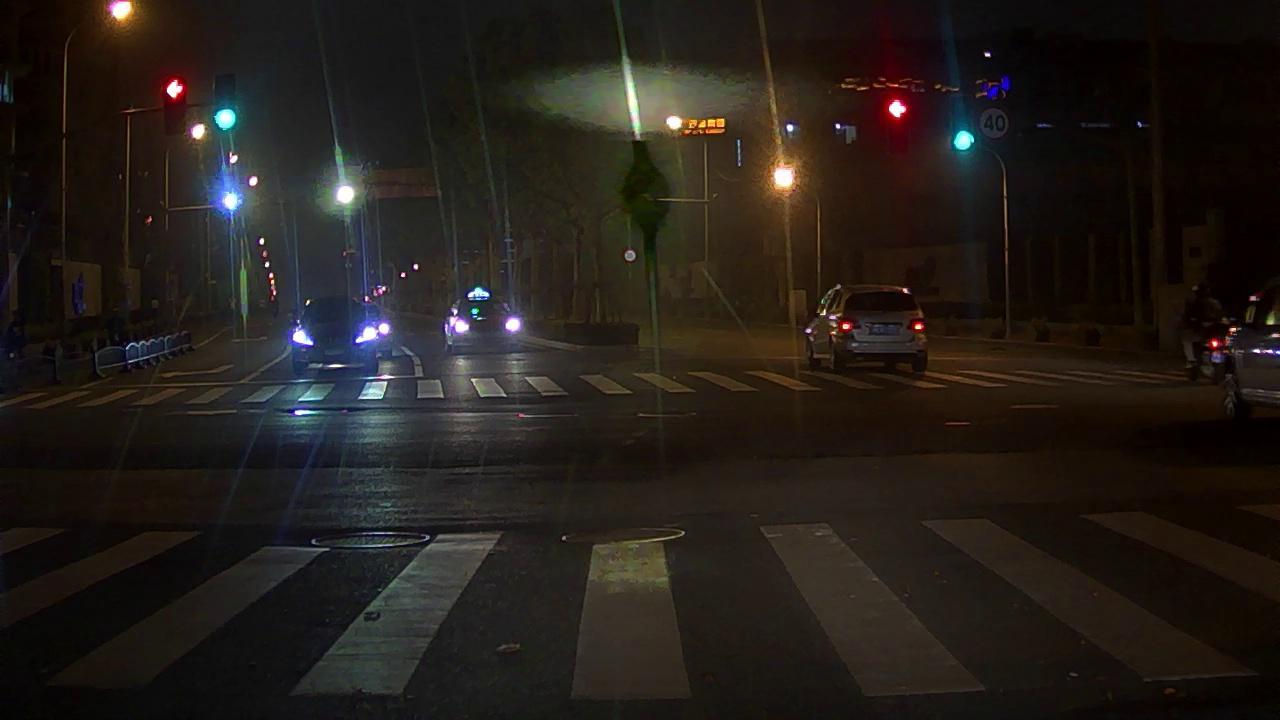traffic_light: (212, 75, 235, 130), (950, 97, 972, 152), (164, 80, 186, 133), (888, 99, 907, 120)
